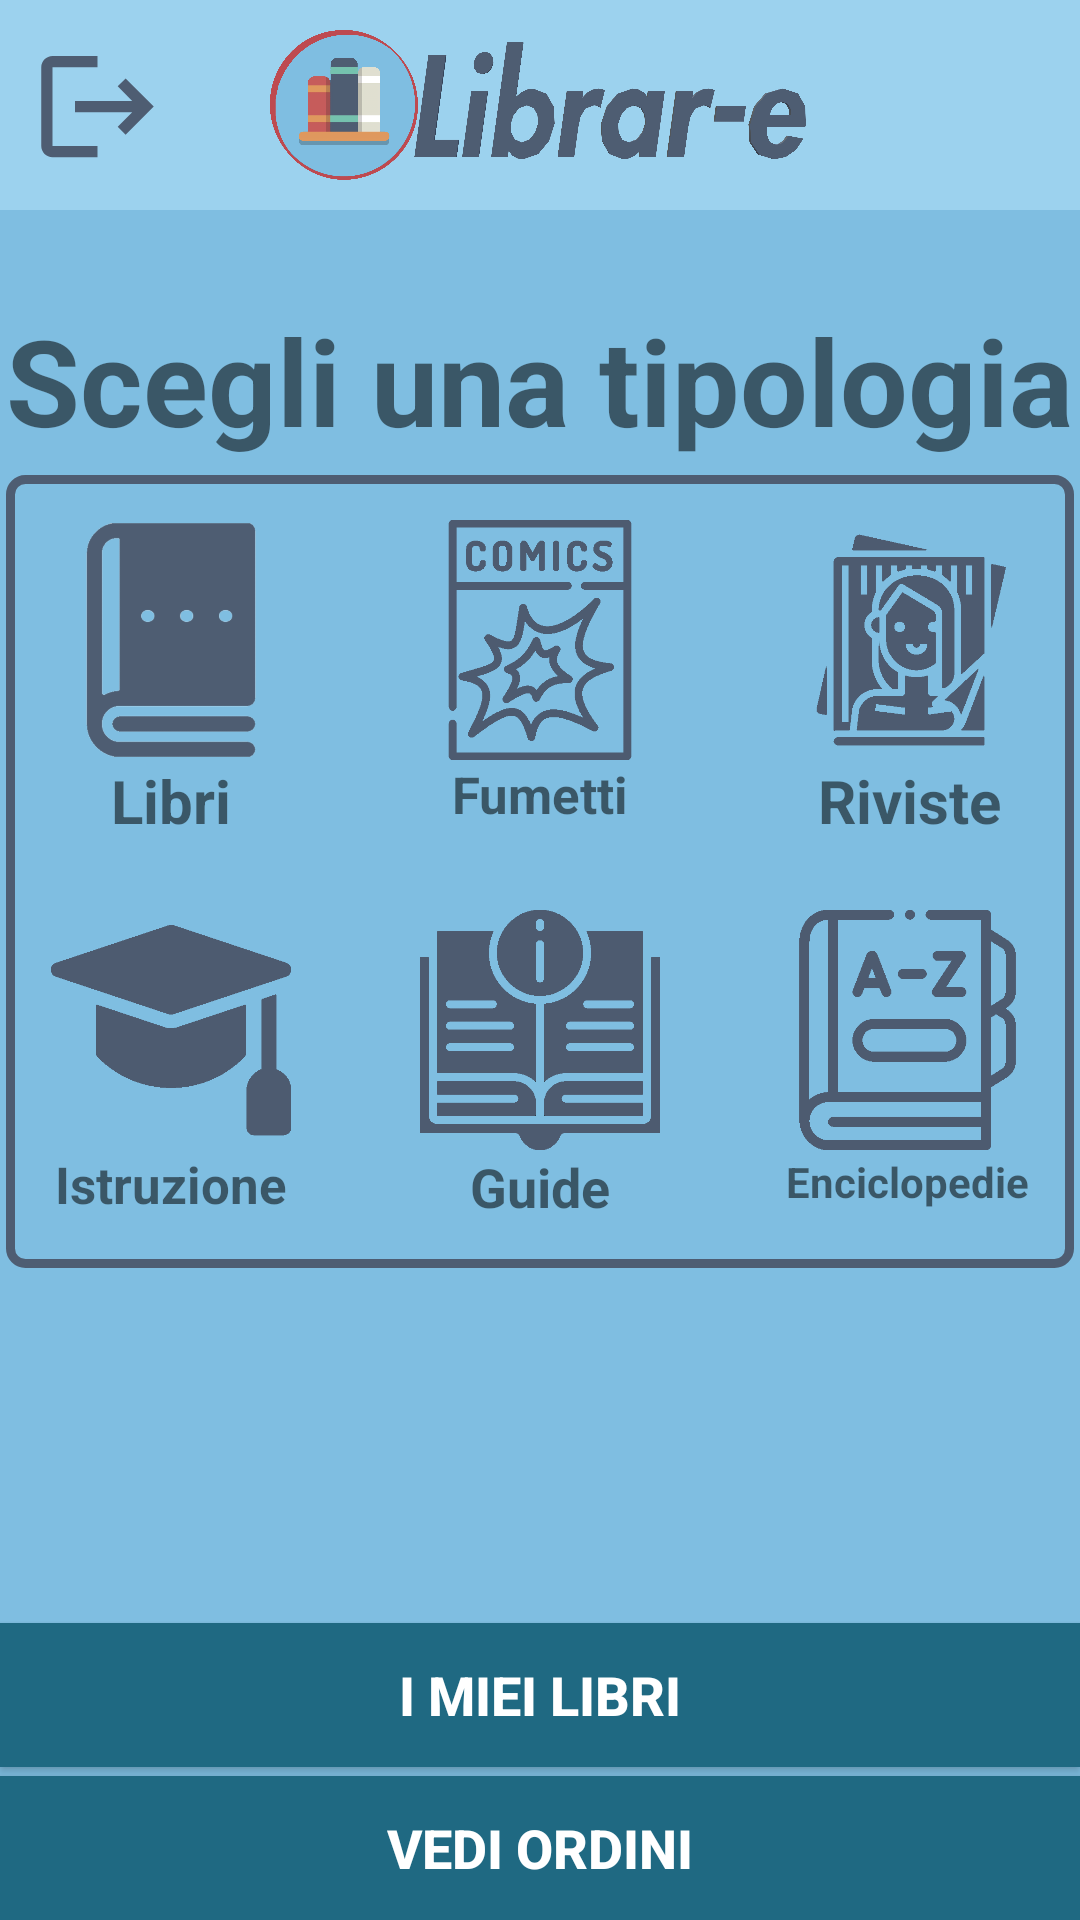

Screen size 1080×1920. Icon name, then its center in pixels as (x=x, y=y):
university: (x=171, y=1030)
